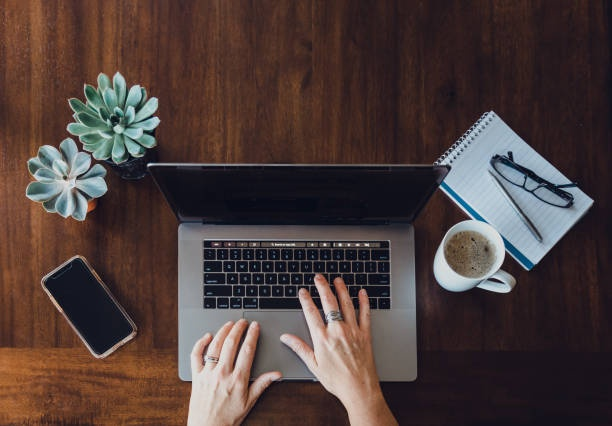keyboard: (202, 238, 392, 313)
laptop: (144, 161, 451, 383)
phone: (38, 253, 138, 360)
